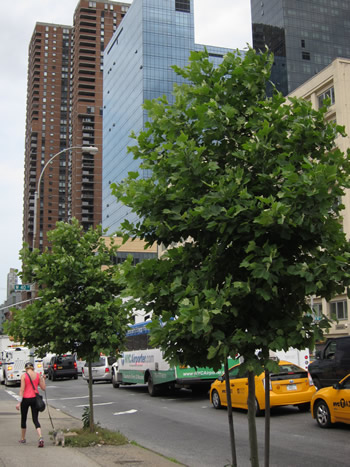tree: (117, 50, 347, 467), (5, 219, 135, 437)
